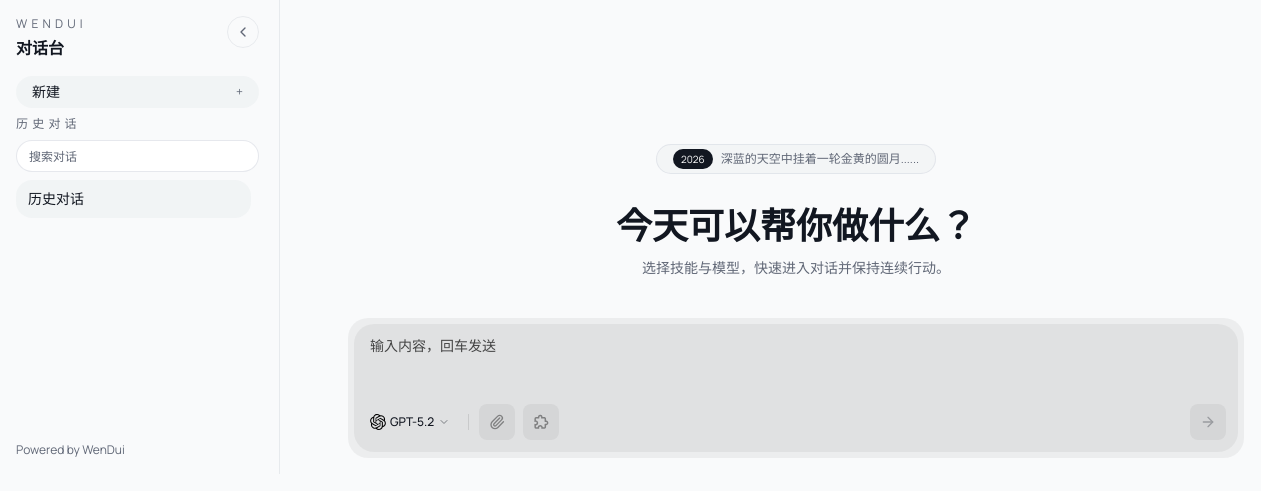
renders chat page with composer
Expected: the heading "今天可以帮你做什么？" is shown, [616, 201, 976, 250]
Expected: the 1st text "历史对话" is shown, [16, 115, 81, 132]
Click the button named "收起侧边栏".
click(243, 32)  # box [227, 16, 259, 48]
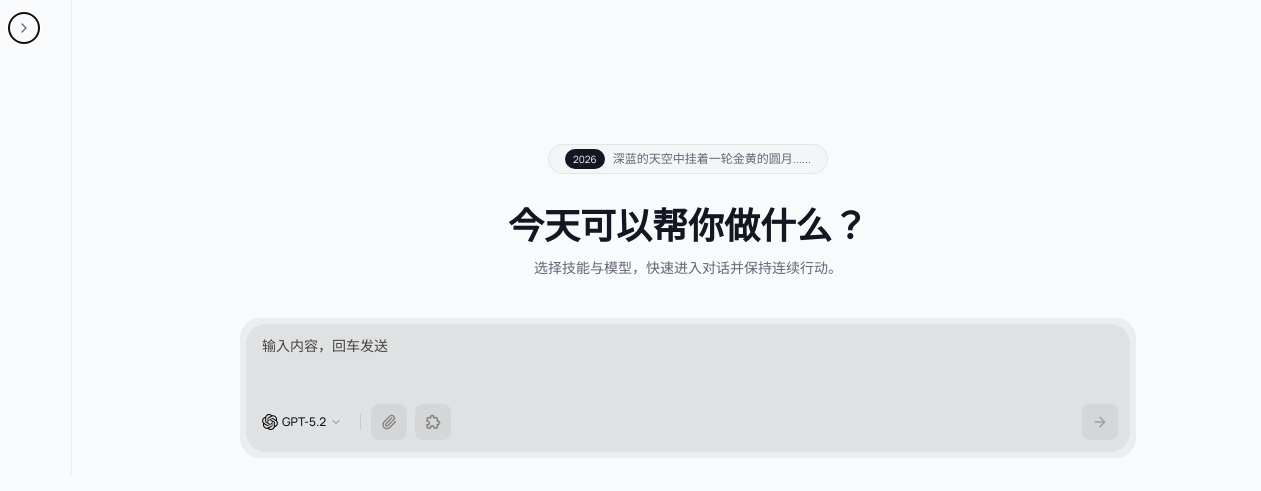
Result: the text "历史对话" is gone
Click the button named "展开侧边栏".
click(24, 28)  # box [8, 12, 40, 44]
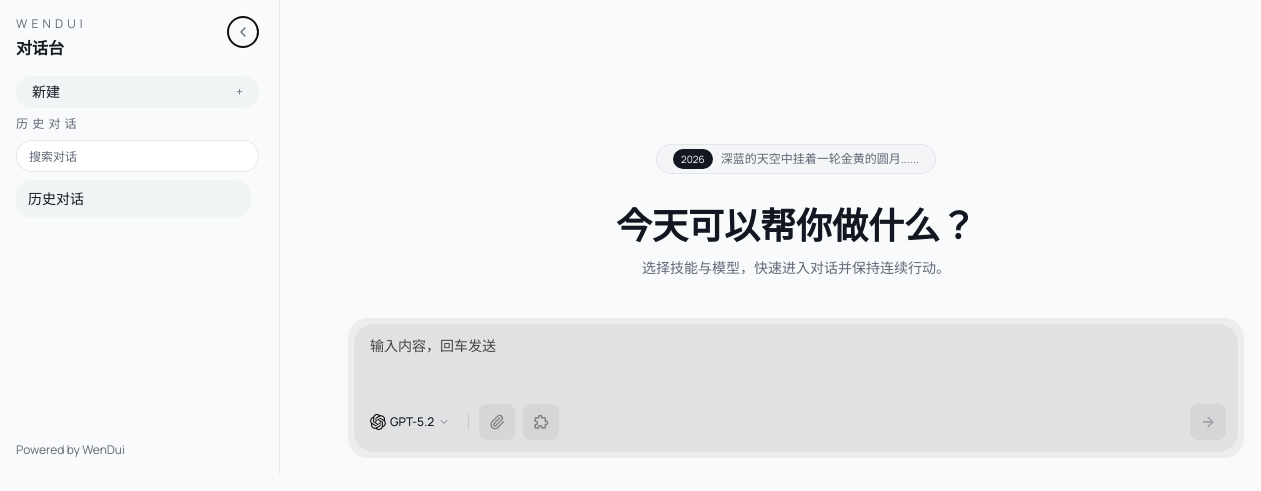
Expected: the text box with placeholder "输入内容，回车发送" is shown, [354, 324, 1238, 396]
Result: the 1st text "历史对话" is shown at [16, 115, 81, 132]
